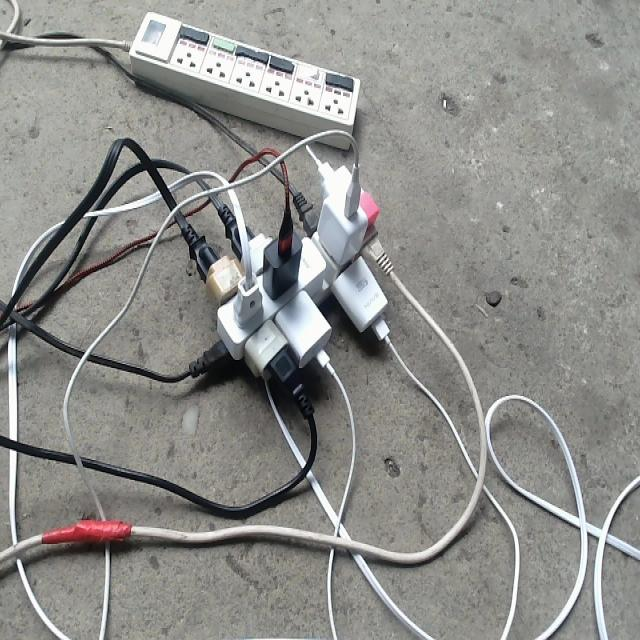-: (101, 128, 445, 460)
